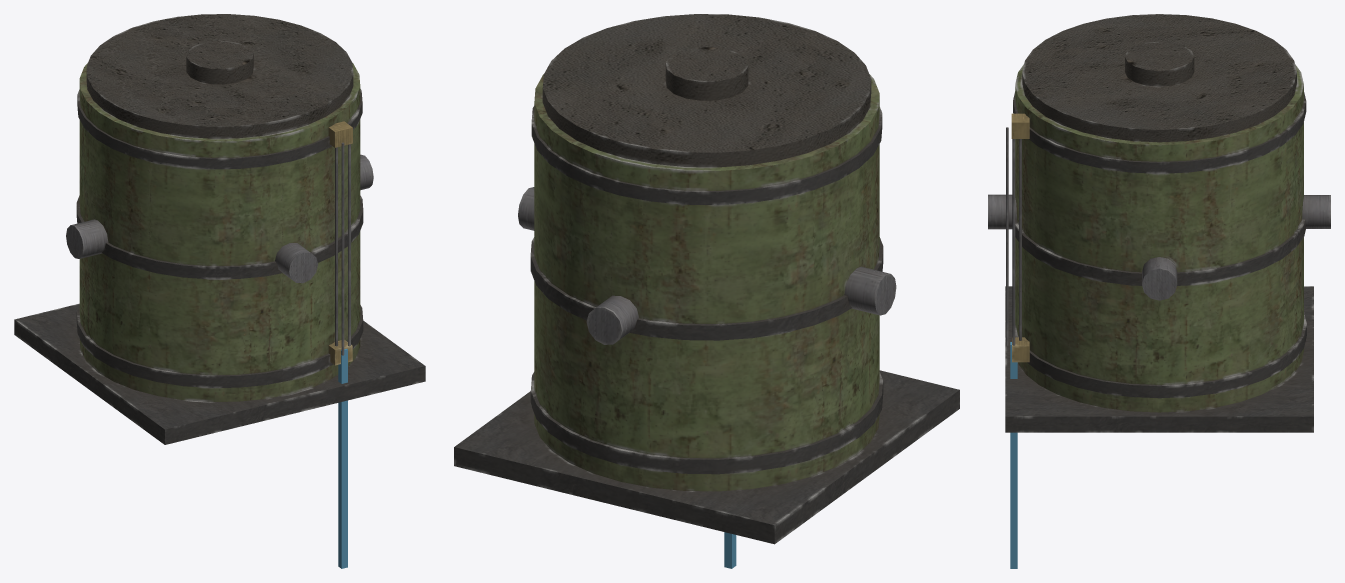
Rendered from feTankLiquid_HD.fbx.
3 views of the same model, side by side, from view 1: azimuth 30°, elevation 25°; view 2: azimuth 150°, elevation 25°; view 3: azimuth 270°, elevation 25° (orthographic). The views are drawn at different scales.
Parts seen in each view (by area): view 1: feTankLiquid_Base, FeSurface_r0.70_Level; view 2: feTankLiquid_Base; view 3: feTankLiquid_Base, FeSurface_r0.70_Level.
Boxes of the visible parts, <box> form: feTankLiquid_Base: <box>14,14,425,444</box>; FeSurface_r0.70_Level: <box>338,348,347,568</box>; feTankLiquid_Base: <box>454,14,959,544</box>; feTankLiquid_Base: <box>988,14,1330,432</box>; FeSurface_r0.70_Level: <box>1010,342,1017,568</box>.
Size of the model in its own units: 1 by 1.56 by 1.
Materials: 2 (1 with a texture image).
